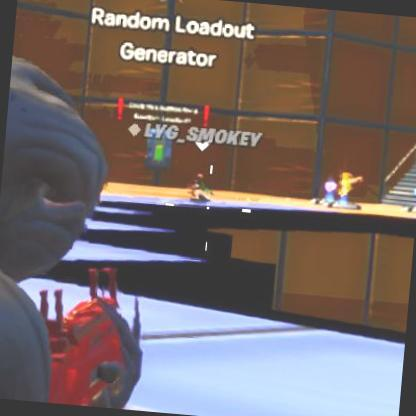person: (191, 172, 208, 205)
